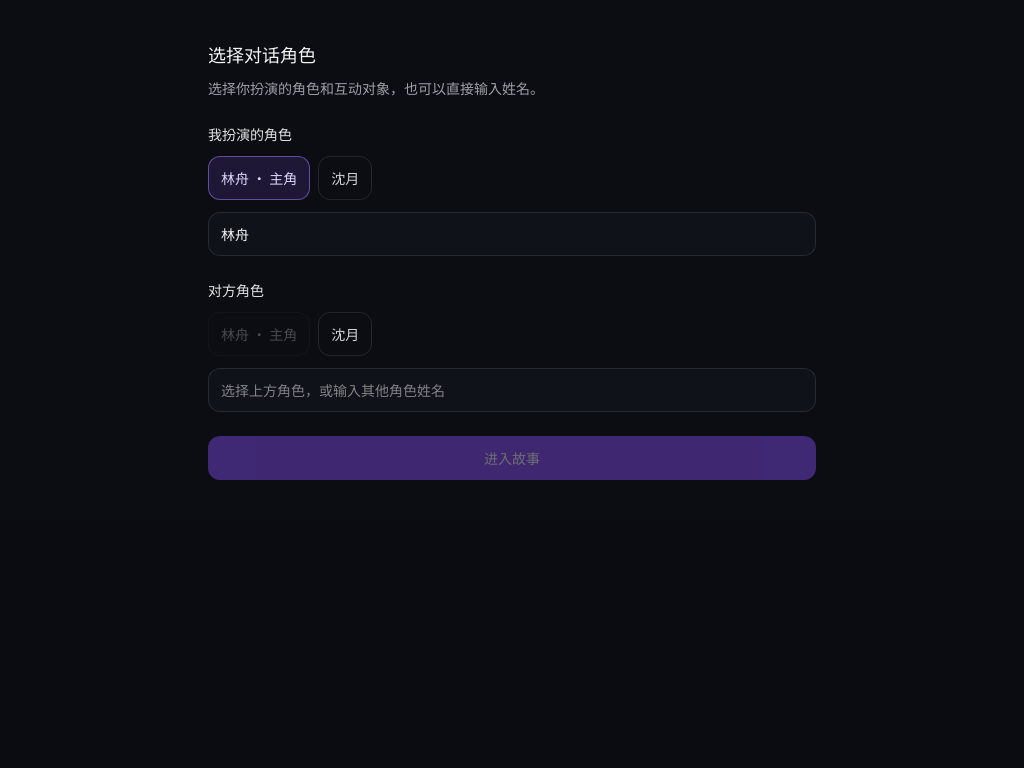
Scenario: roleplay script view › does not render malformed JSON and retries a saved user turn without duplicating it
Expected: the element with test id "roleplay-cast-picker" is shown, left=176, top=0, right=848, bottom=520
Click the button "沈月" below "对方角色" at (345,334), box left=318, top=312, right=372, bottom=356
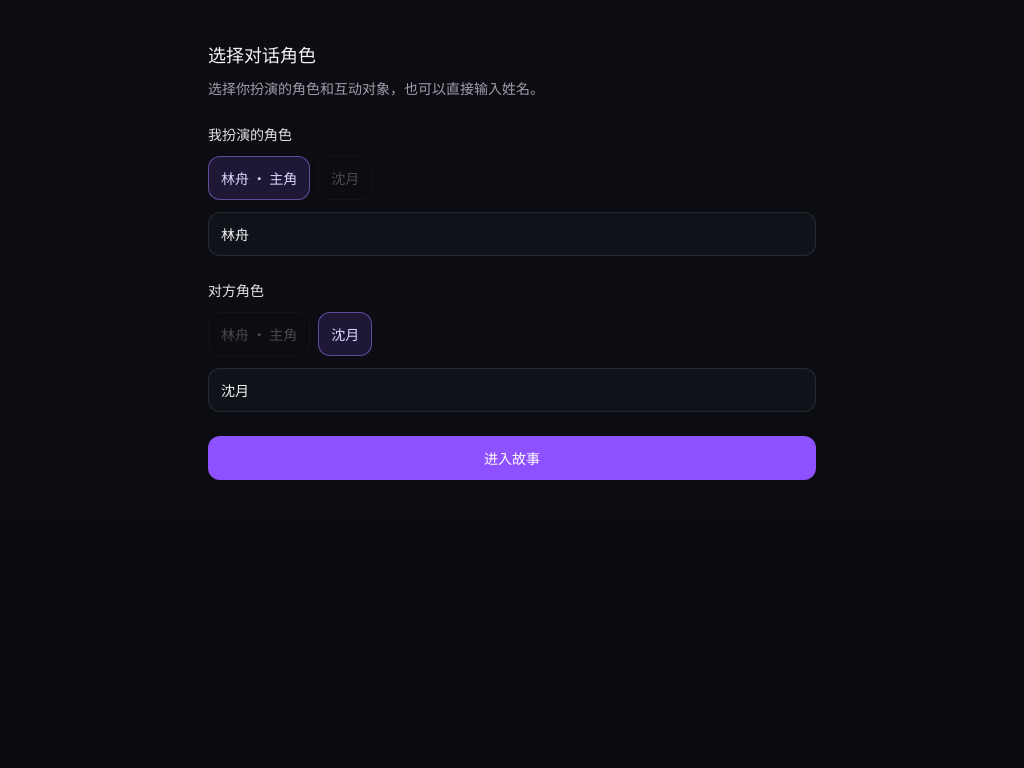
Click the button "进入故事" at (512,458), box left=208, top=436, right=816, bottom=480
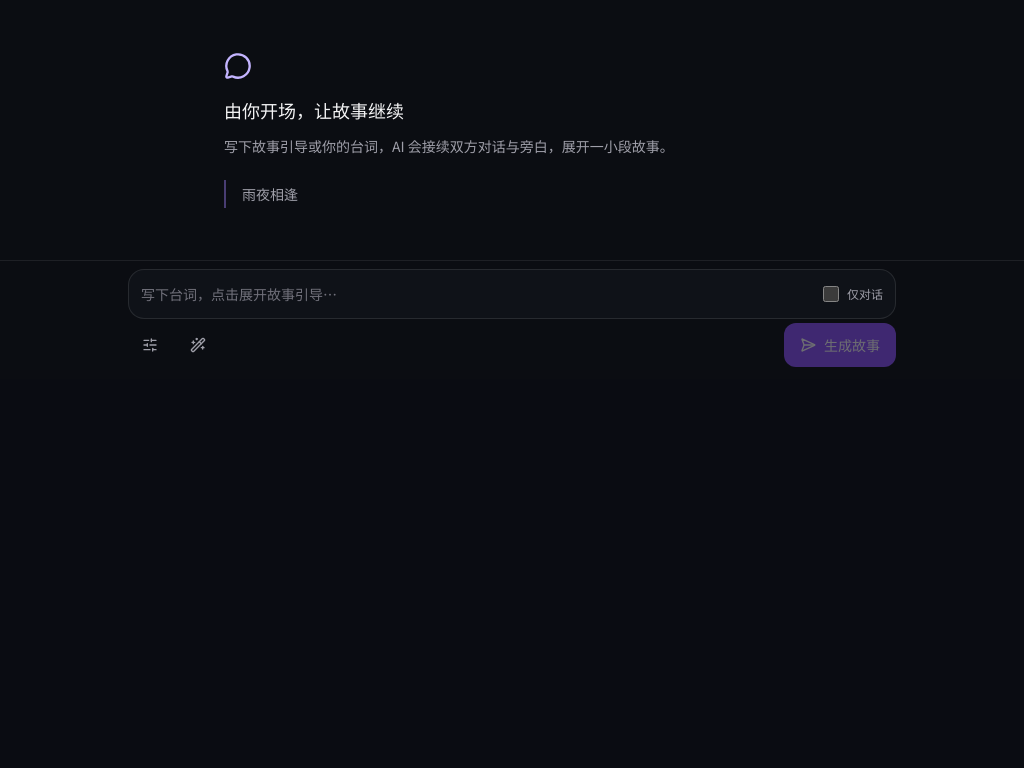
Type "你在等我？" into the text box named "我的台词" at (476,294), box left=141, top=282, right=811, bottom=306
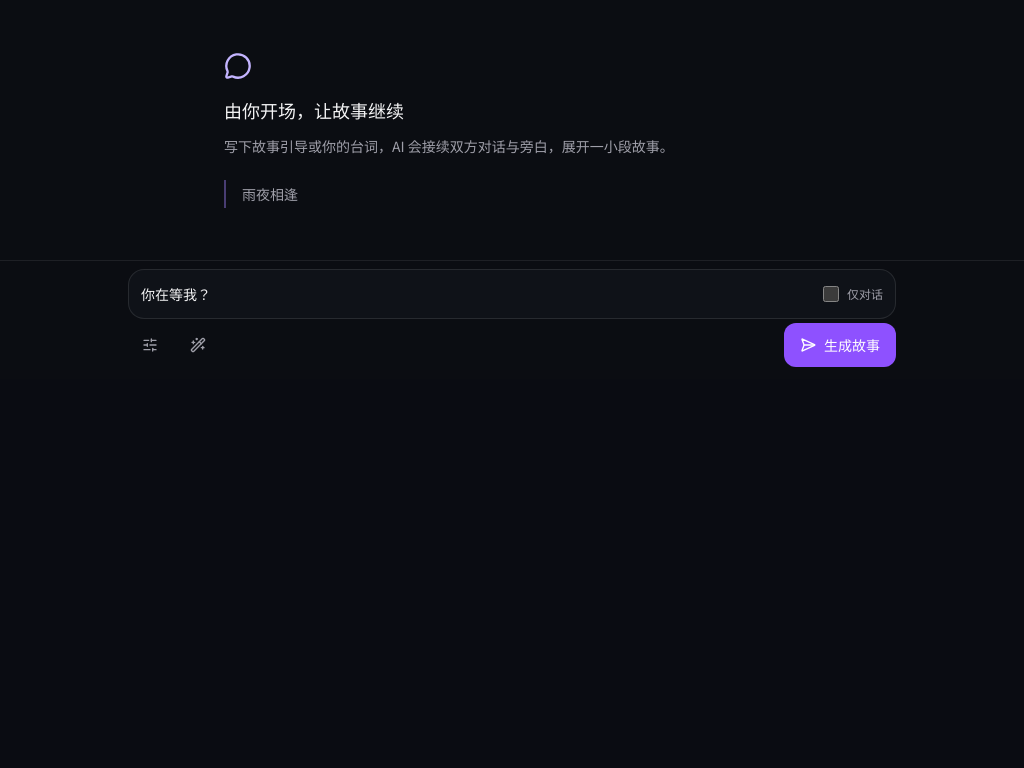
Click the button with test id "roleplay-composer-send" at (840,345), box left=784, top=323, right=896, bottom=367
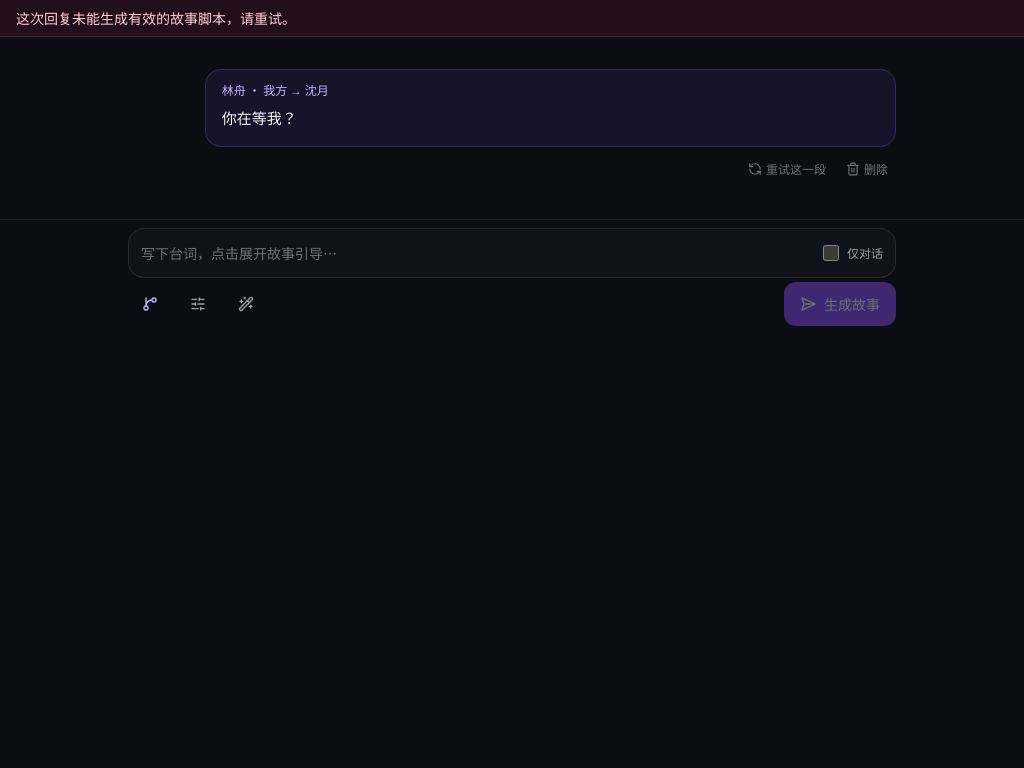
Expected: the element with test id "roleplay-message-list" does not show "{broken", left=205, top=69, right=896, bottom=187
Expected: the message "这次回复未能生成有效的故事脚本，请重试。" is shown, left=0, top=0, right=1023, bottom=37
Click the button "重试这一段" at (787,169), box left=740, top=151, right=834, bottom=187
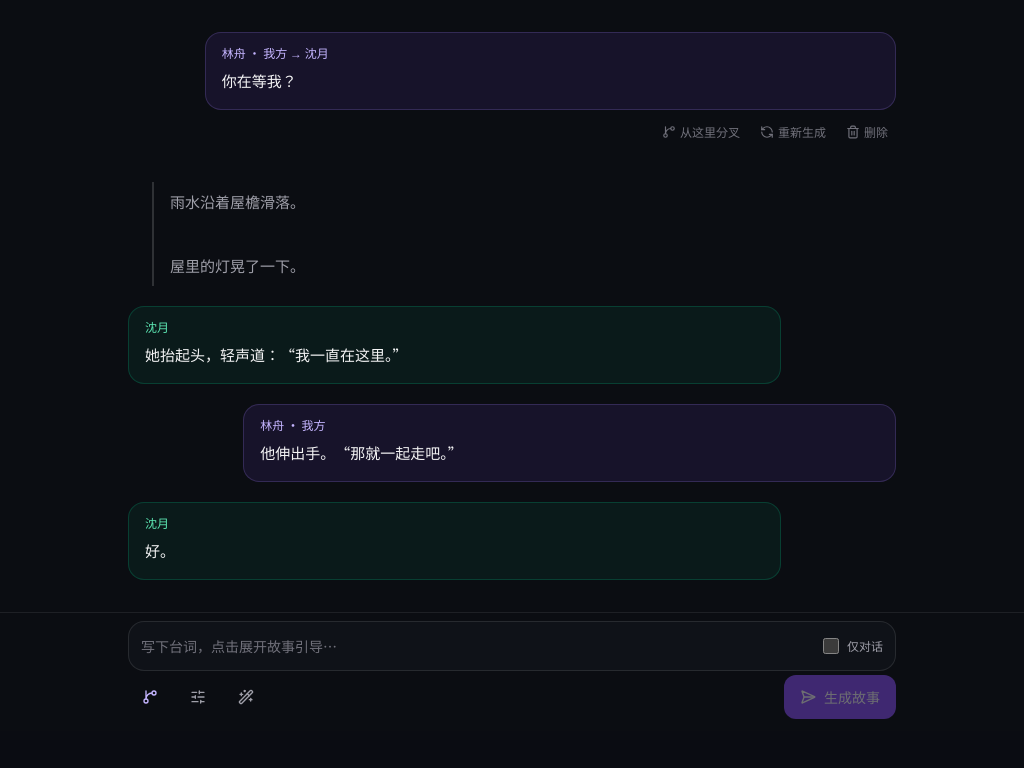
Expected: the element with test id "roleplay-script" is shown, left=128, top=182, right=896, bottom=580
